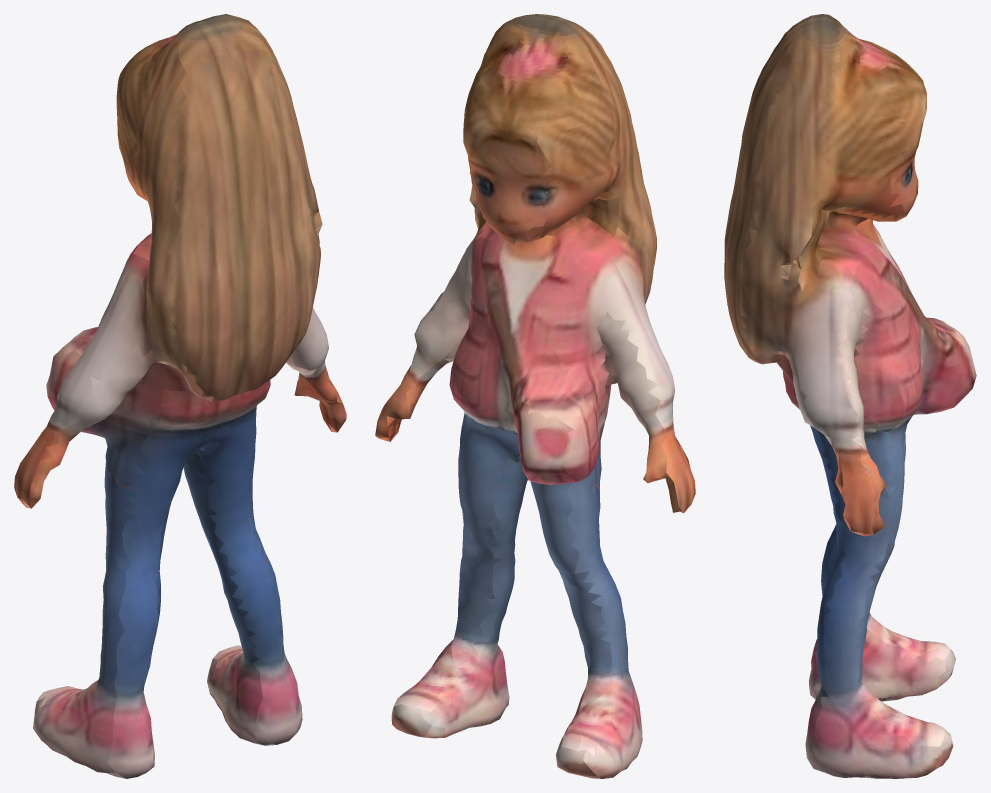
The model's file is patch-toon-raw.glb.
3 renders of one model, left to right at view 1: azimuth 30°, elevation 25°; view 2: azimuth 150°, elevation 25°; view 3: azimuth 270°, elevation 25°, orthographic. The views are drawn at different scales.
Visible parts, largest first — view 1: world; view 2: world; view 3: world.
Part boxes in pixels (left/top/right/bottom): world: left=14, top=14, right=346, bottom=778; world: left=375, top=14, right=695, bottom=778; world: left=724, top=14, right=976, bottom=778.
Size of the model in its own units: 0.4327 by 0.9497 by 0.3037.
1 material, 1 textured.
